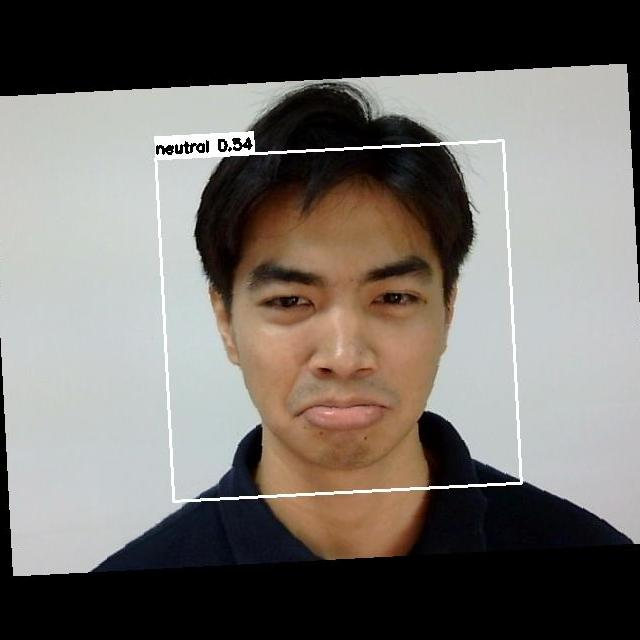Sad: (222, 228, 455, 438)
